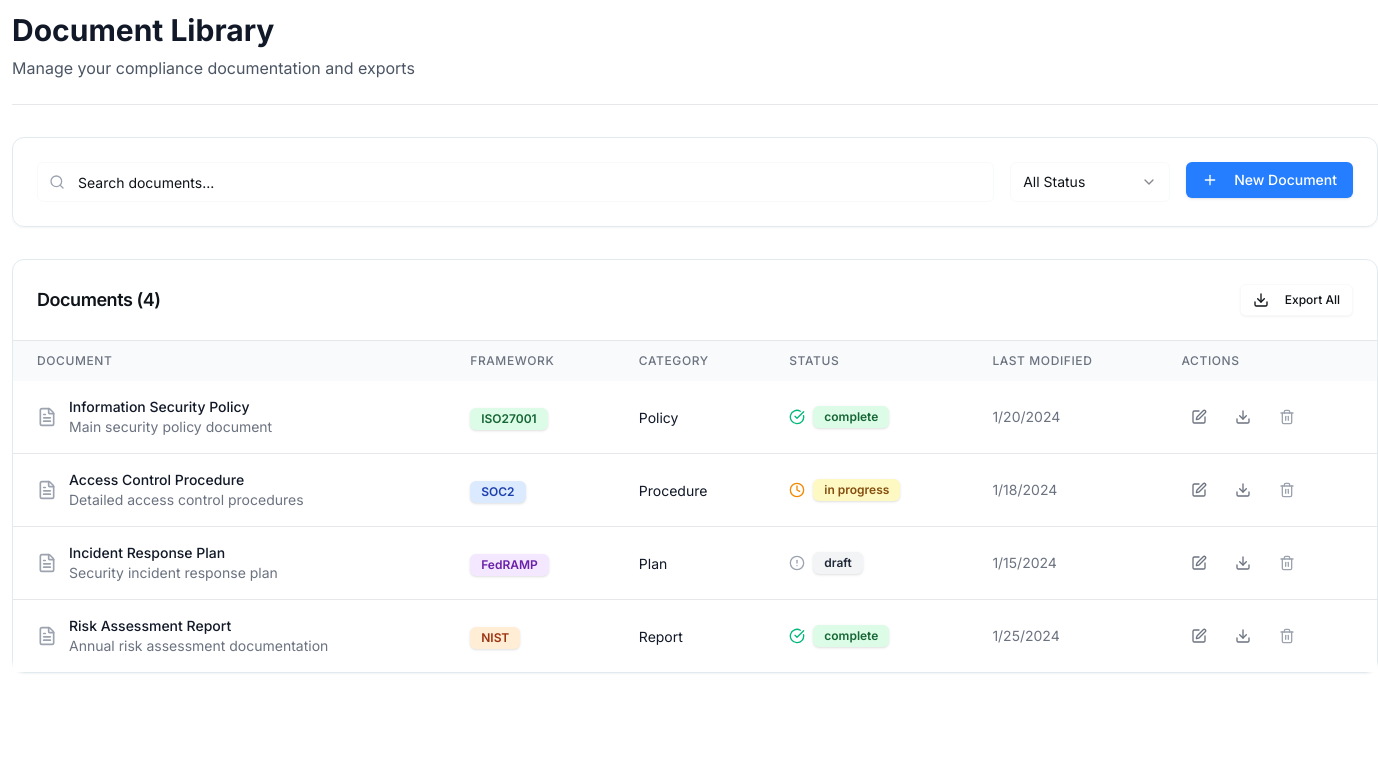
Test: Documents Page › Status Filter › should filter documents by complete status
Click the dropdown with test id "select-status-filter".
click(1090, 182)  # box left=1010, top=162, right=1170, bottom=202
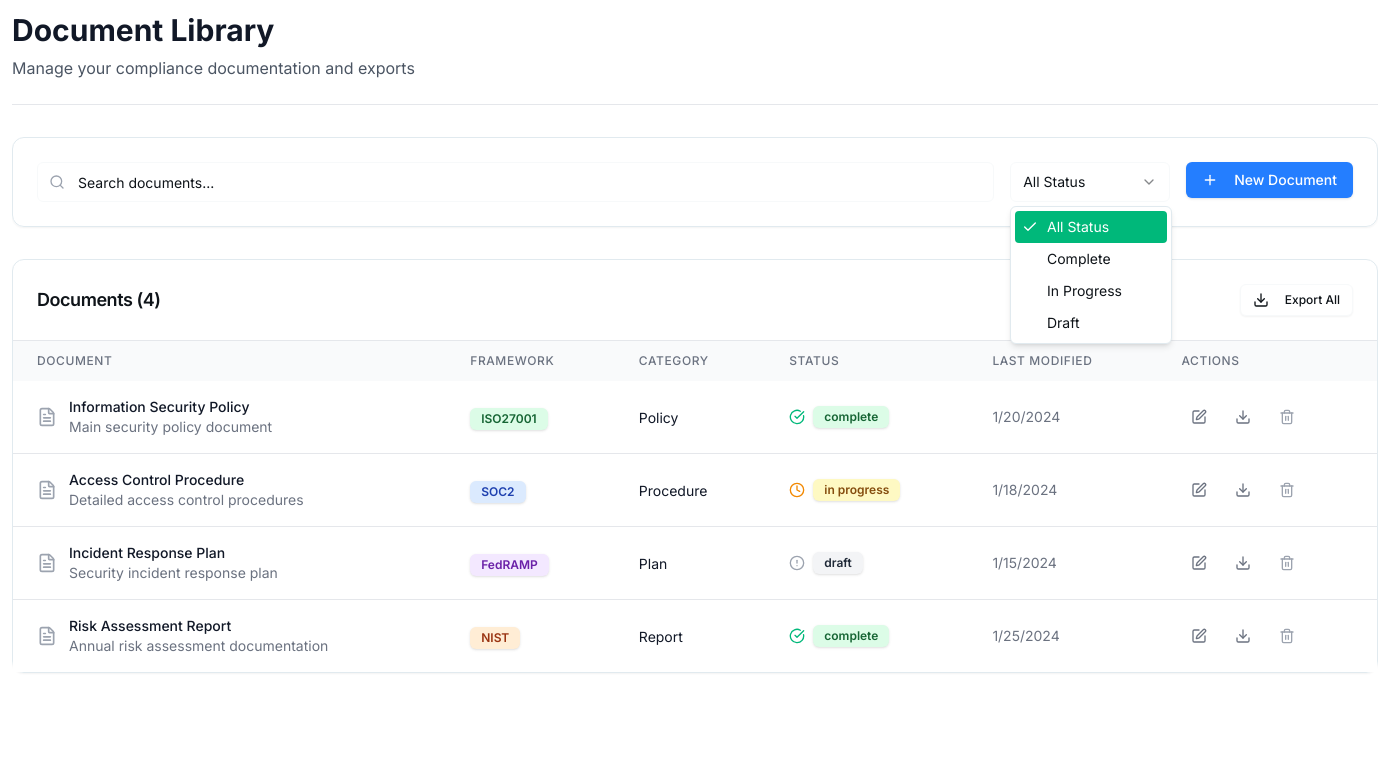
Click the option "Complete".
click(1079, 258)  # box left=1047, top=250, right=1111, bottom=267
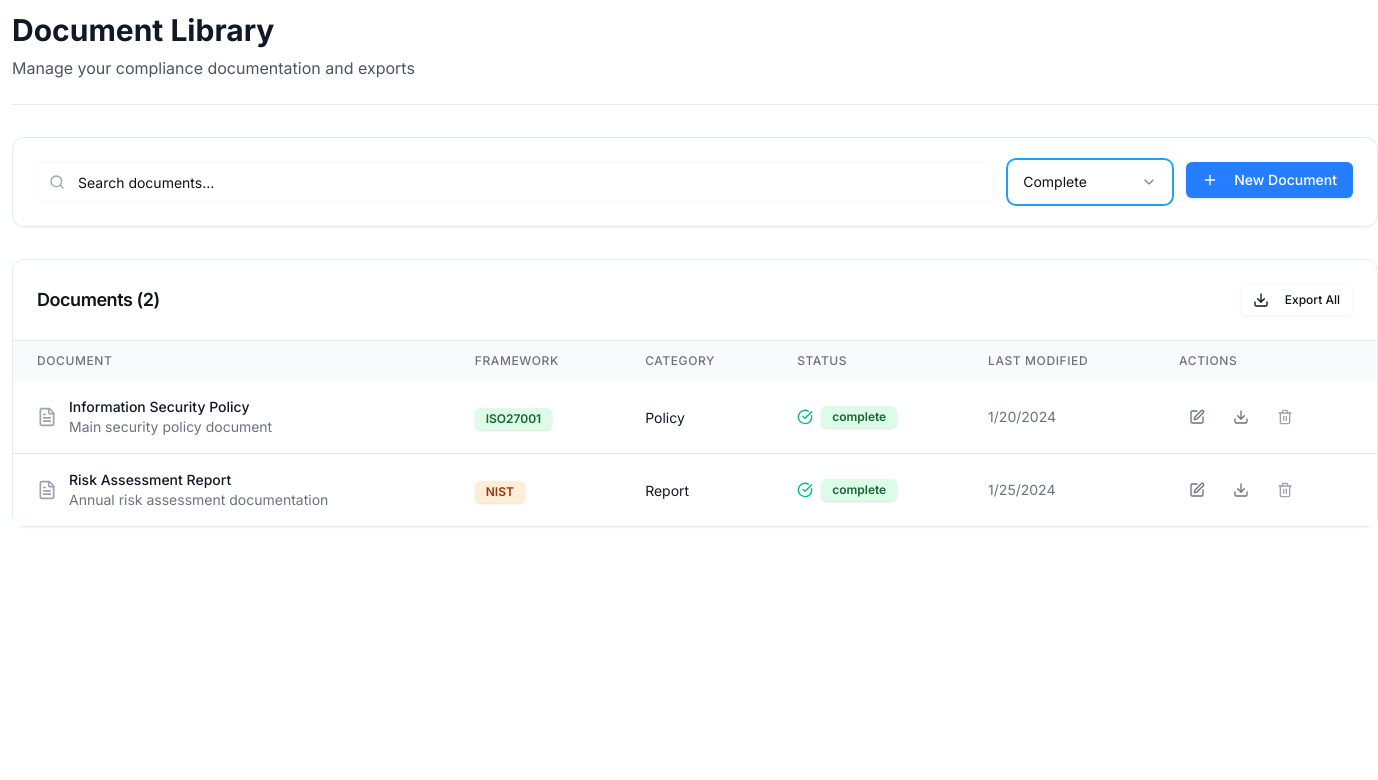
Check: the text "Access Control Procedure" is gone
Check: the text "Documents (2)" is shown, box left=37, top=286, right=160, bottom=314
